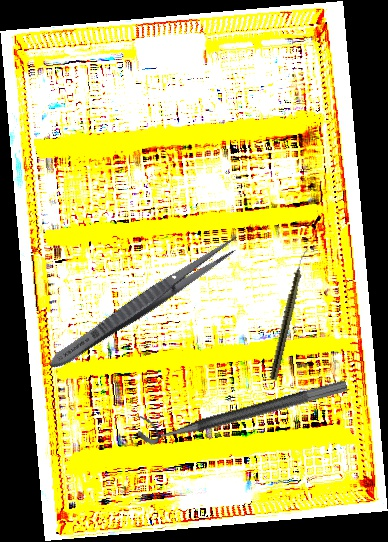Dressing Forceps: (44, 230, 245, 376)
Fixation Ring: (133, 361, 349, 449)
Handpiece: (268, 246, 310, 382)
